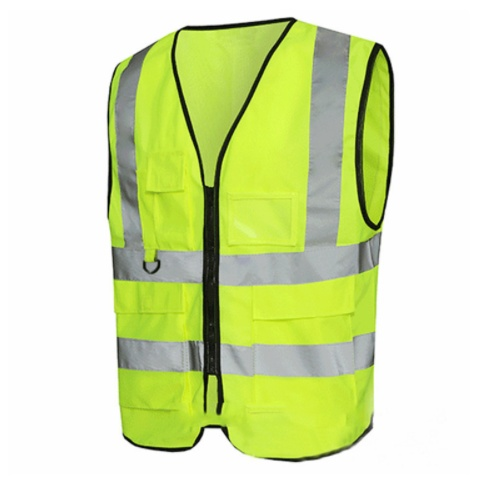safety vest: (96, 22, 383, 463)
